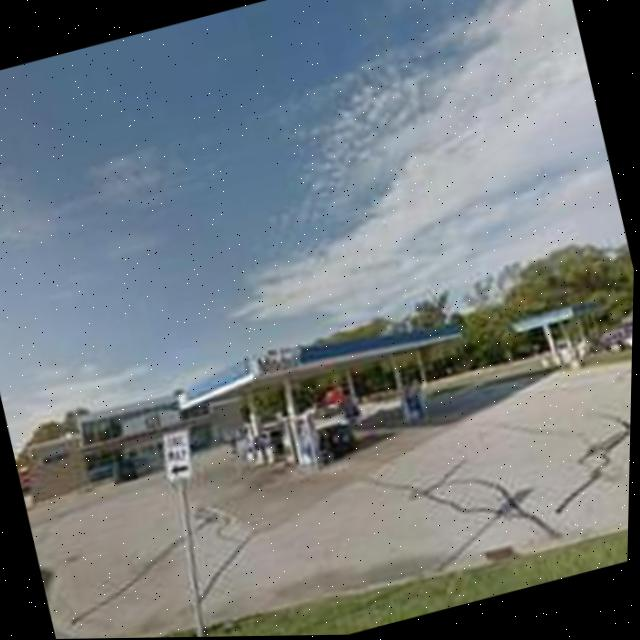building: (14, 296, 488, 536), (501, 284, 613, 374)
